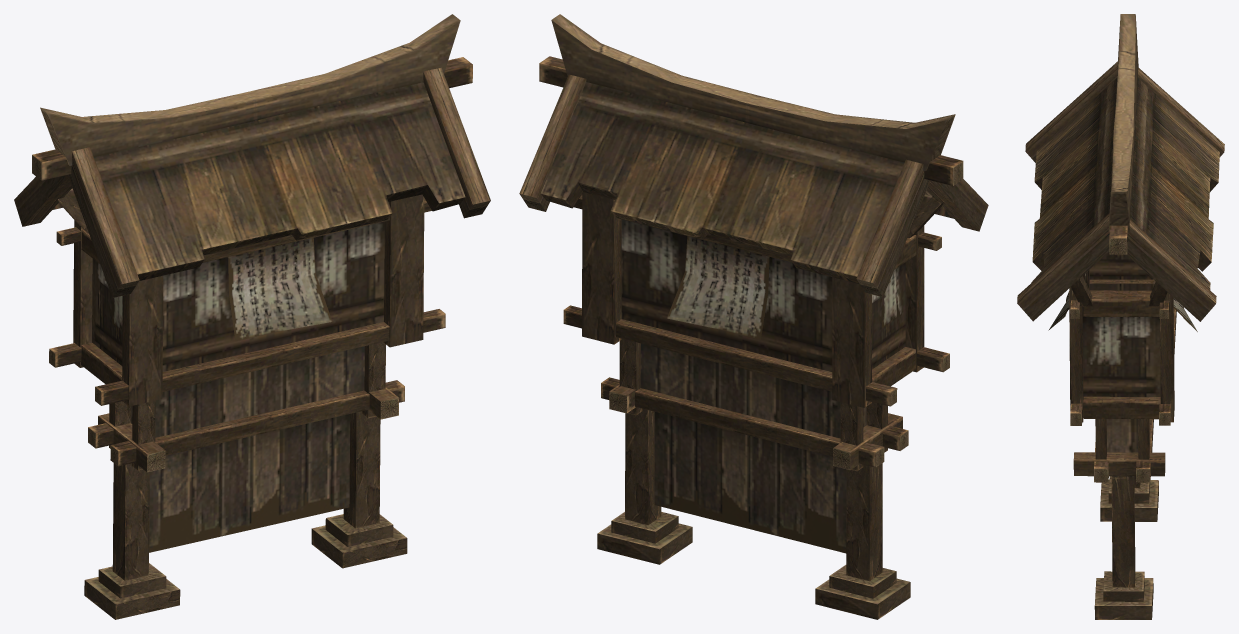
The model's file is ZZL_Item_03.FBX.
3 renders of one model, left to right at view 1: azimuth 30°, elevation 25°; view 2: azimuth 150°, elevation 25°; view 3: azimuth 270°, elevation 25°, orthographic. The views are drawn at different scales.
Visible parts, largest first — view 1: ZZL_Item_03; view 2: ZZL_Item_03; view 3: ZZL_Item_03.
Boxes of the visible parts, x1,y1,x2,y2 form: ZZL_Item_03: (14, 14, 490, 619); ZZL_Item_03: (519, 14, 988, 619); ZZL_Item_03: (1017, 14, 1224, 619).
Size of the model in its own units: 330 by 380 by 157.
Materials: 1 (1 with a texture image).
